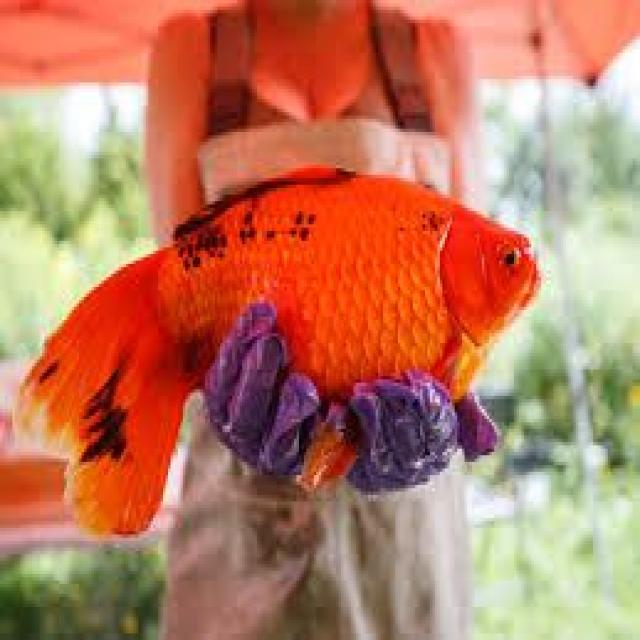Gold-Fish: (21, 193, 553, 538)
